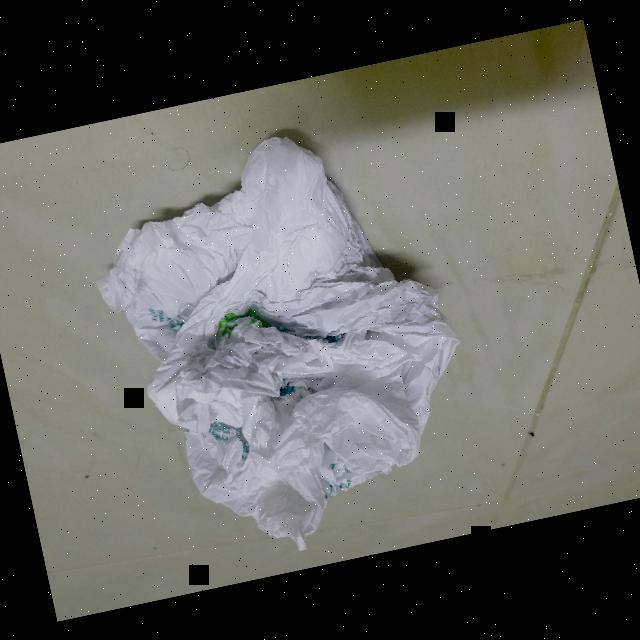plastic_bag: (70, 100, 502, 588)
